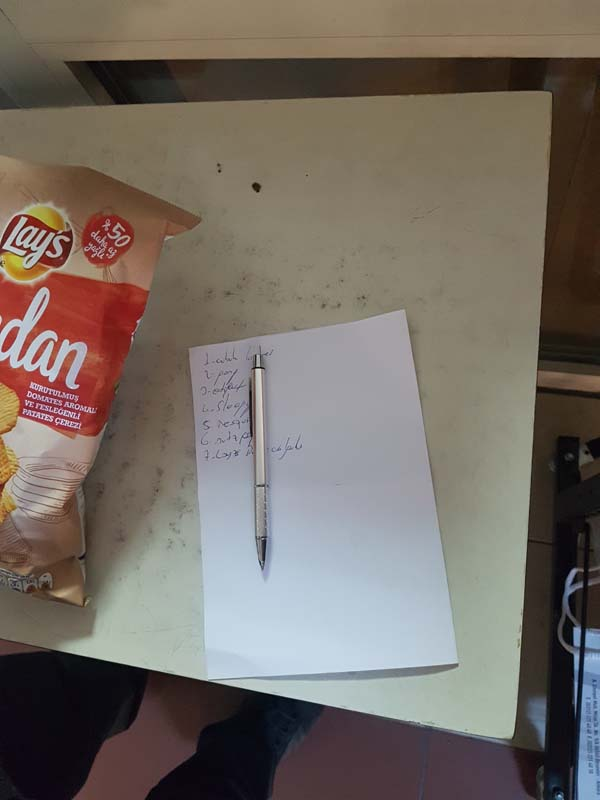laysfirindan: (2, 152, 212, 608)
